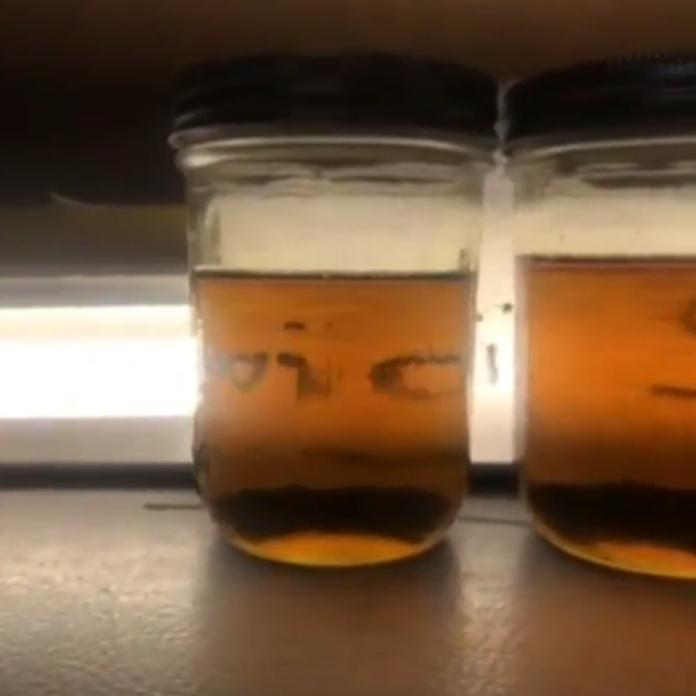Beaker: (166, 68, 492, 563), (502, 73, 695, 575)
